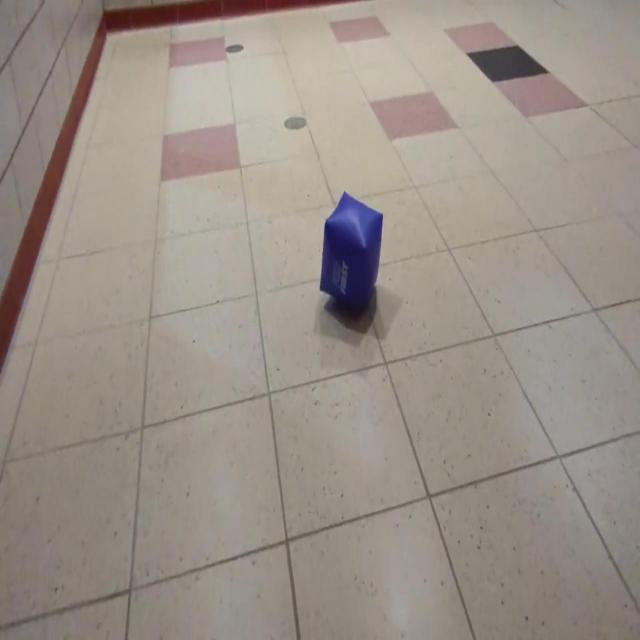frc_cube: (319, 191, 383, 319)
